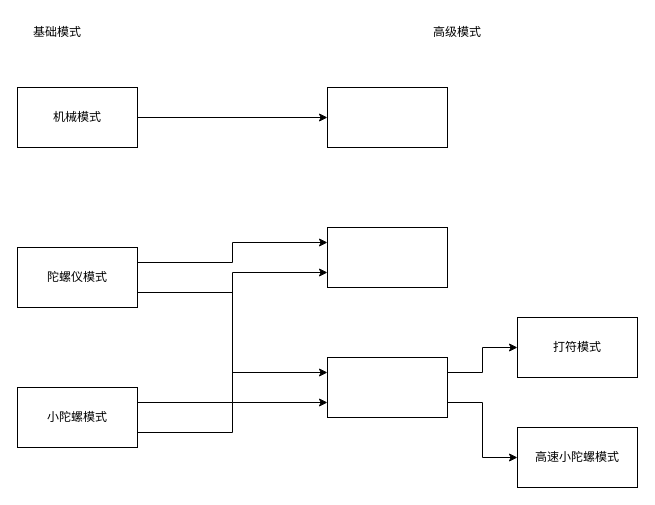
The diagram is 655 pixels wide and 505 high, and some of its shapes have lost their labels. Here are the shapes that lost their labels. From the top down, the centre of each, then its label:
At (387,117): "吊射模式".
At (387,257): "近战模式".
At (387,387): "自瞄模式".
